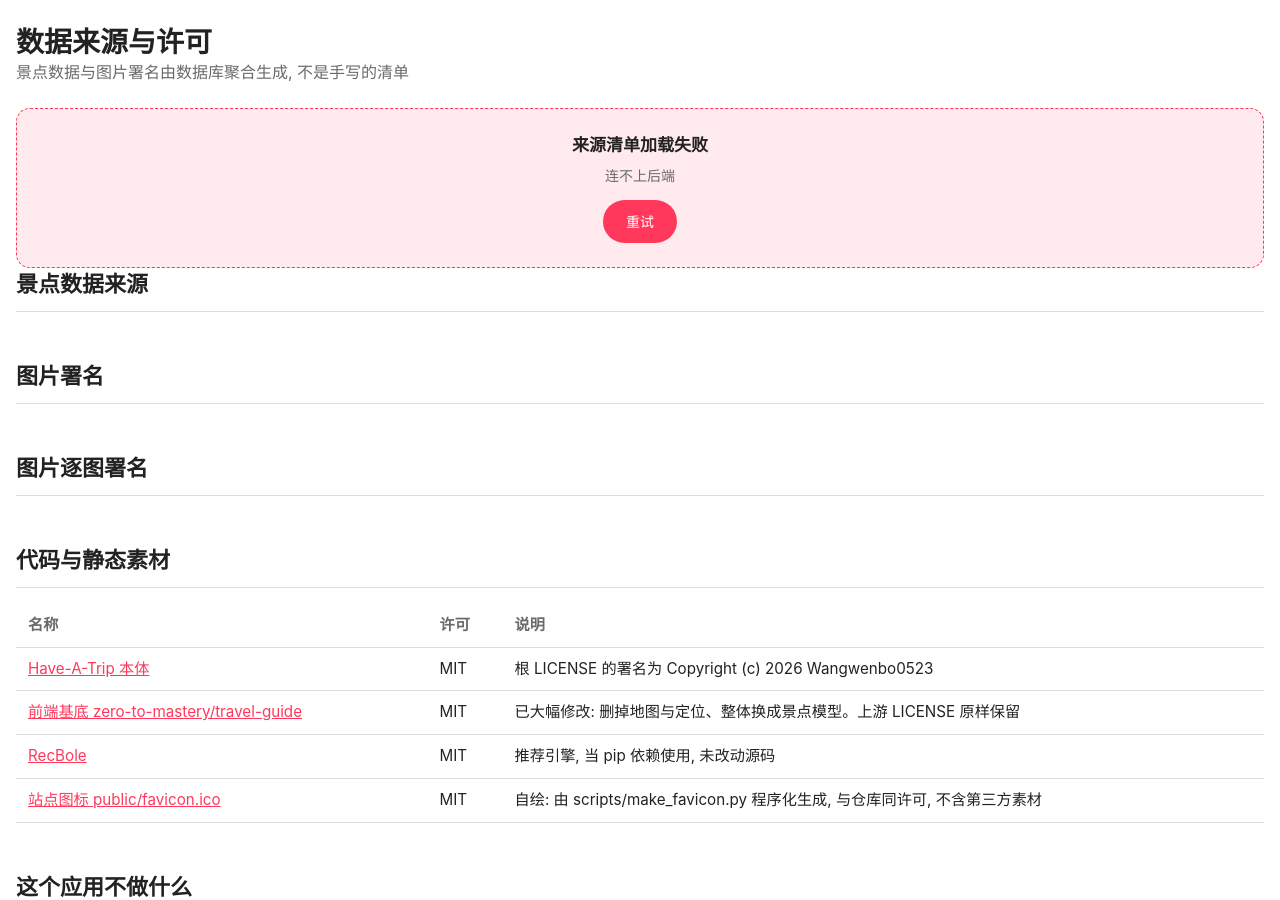
Test: Credits › 重试会真的再请求一次
This screenshot has width=1280, height=900.
Click the button "重试".
click(640, 221)  # box [603,200,677,243]
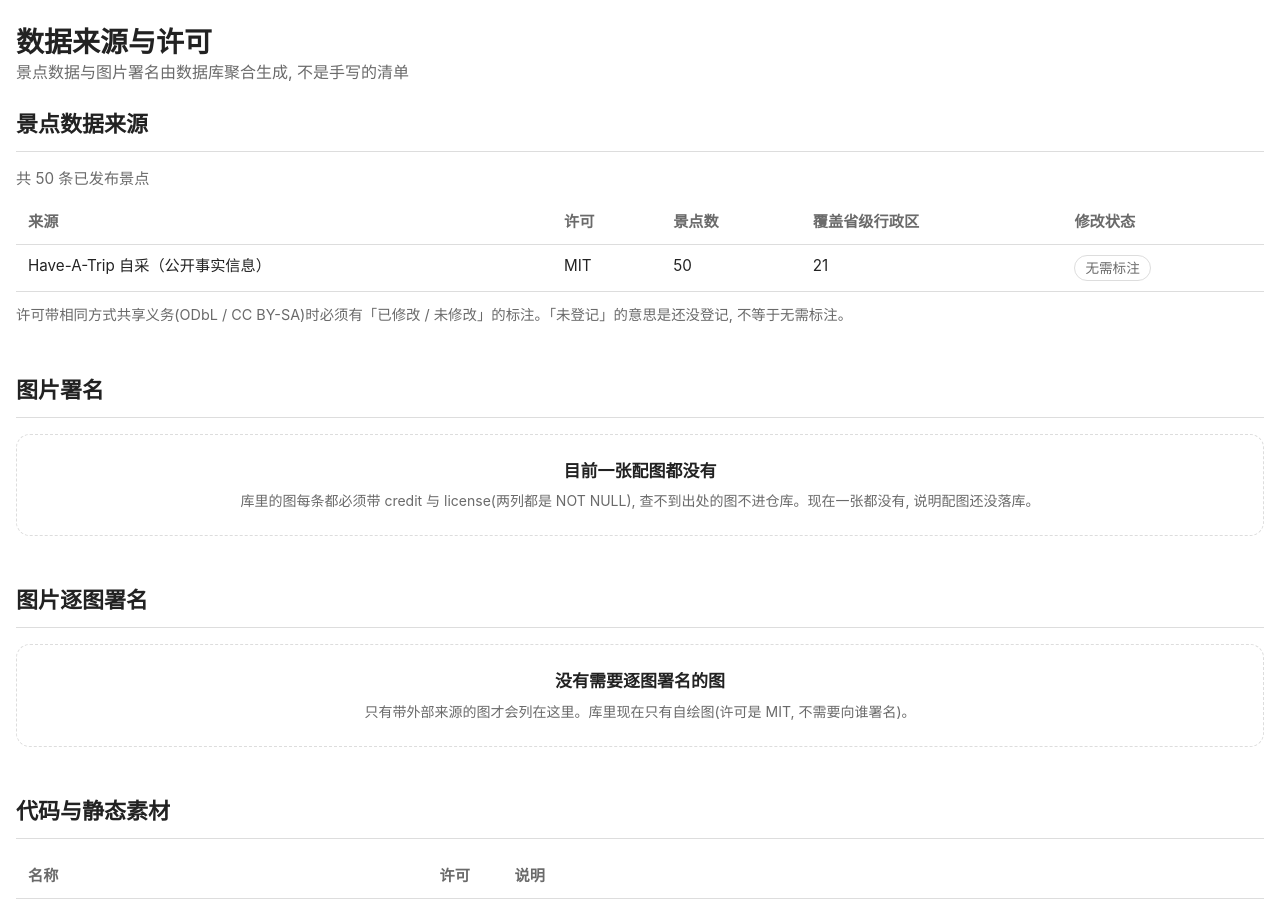
Check: the table "共 50 条已发布景点" is shown, box [16,168,1264,292]
